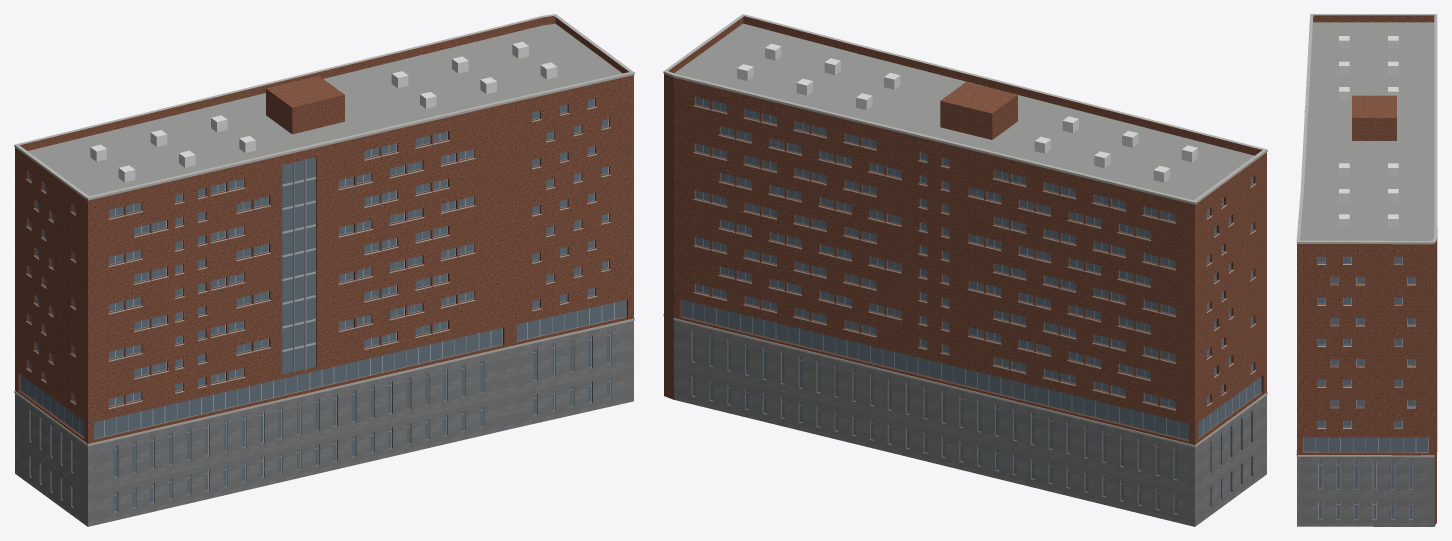
3 views of the same model, side by side, from view 1: azimuth 30°, elevation 25°; view 2: azimuth 150°, elevation 25°; view 3: azimuth 270°, elevation 25° (orthographic). The views are drawn at different scales.
Visible parts, largest first — view 1: dormE__brick, dormE__granite, dormE__glass, dormE__roof, dormE__frame, dormE__reveal, dormE__coping, dormE__core, dormE__sill, dormE__graniteRev, dormE__unit; view 2: dormE__brick, dormE__granite, dormE__glass, dormE__roof, dormE__frame, dormE__reveal, dormE__coping, dormE__sill, dormE__core, dormE__graniteRev, dormE__unit; view 3: dormE__brick, dormE__roof, dormE__granite, dormE__glass, dormE__coping, dormE__core, dormE__unit, dormE__frame, dormE__reveal, dormE__sill.
Part boxes in pixels (x1,y1,x2,y2): dormE__brick: (15,16,633,443); dormE__granite: (15,321,633,526); dormE__glass: (21,98,626,511); dormE__roof: (27,23,622,196); dormE__frame: (20,98,626,511); dormE__reveal: (18,98,627,440); dormE__coping: (14,14,634,446); dormE__core: (266,75,344,134); dormE__sill: (26,106,610,408); dormE__graniteRev: (29,332,611,512); dormE__unit: (90,41,557,182); dormE__brick: (664,16,1266,444); dormE__granite: (674,320,1266,526); dormE__glass: (681,97,1260,513); dormE__roof: (674,23,1254,200); dormE__frame: (681,97,1261,513); dormE__reveal: (679,96,1263,441); dormE__coping: (663,14,1267,447); dormE__sill: (693,105,1255,410); dormE__core: (940,82,1017,139); dormE__graniteRev: (691,330,1252,514); dormE__unit: (737,43,1197,182); dormE__brick: (1297,15,1436,525); dormE__roof: (1300,22,1434,240); dormE__granite: (1297,457,1434,526); dormE__glass: (1303,256,1427,518); dormE__coping: (1296,14,1437,457); dormE__core: (1352,95,1396,140); dormE__unit: (1339,36,1398,227); dormE__frame: (1303,110,1428,519); dormE__reveal: (1303,263,1428,453); dormE__sill: (1317,240,1437,428).
Size of the model in its own units: 71.74 by 43.9 by 18.74.
11 materials, 5 textured.
